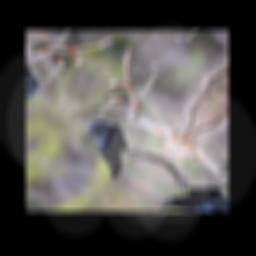Crow: (67, 113, 149, 182)
